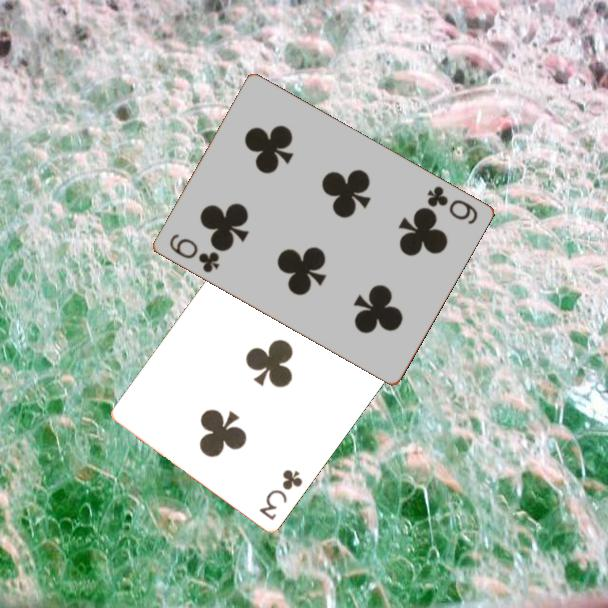c03: (256, 465, 306, 523)
c06: (165, 230, 222, 276), (423, 183, 480, 227)
